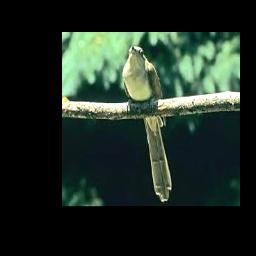Cuckoo: (122, 46, 172, 202)
